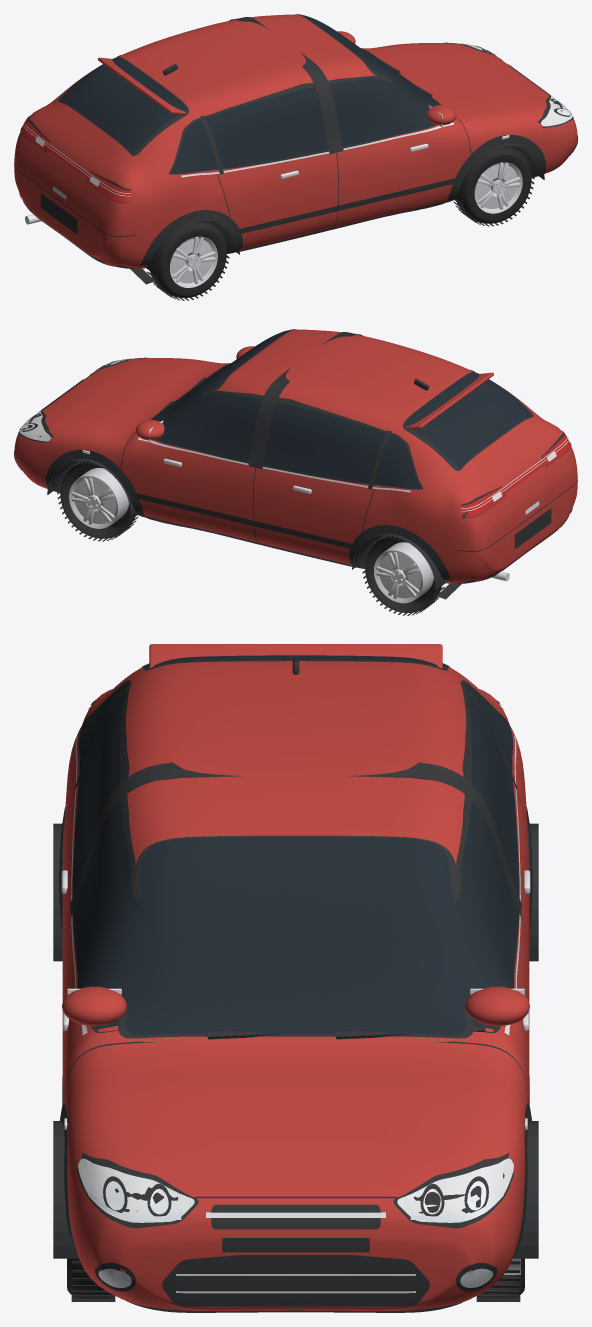
File: lutece_hi.glb
3 views of the same model, one above another, from view 1: azimuth 30°, elevation 25°; view 2: azimuth 150°, elevation 25°; view 3: azimuth 270°, elevation 25° (orthographic). The views are drawn at different scales.
Visible parts, largest first — view 1: Body, Glass-1, RearGlass, WheelFR, WheelRR, ArchTrim-1.001, Bpillar-1, WinFrame-1, ArchTrim-1, Windshield, Rub-1, TailLamp (+9 smaller); view 2: Body, Glass1, RearGlass, WheelFL, WheelRL, ArchTrim1.001, Bpillar1, WinFrame1, ArchTrim1, Windshield, Rub1, TailLamp (+9 smaller); view 3: Body, Windshield, Glass1, Glass-1, Intake, HeadReflector, Spoiler, GrilleUpper, HeadBezel, WsFrame, PlateF, Bpillar1 (+18 smaller).
Boxes of the visible parts, x1,y1,x2,y2 form: Body: (14,14,577,268); Glass-1: (171,78,435,173); RearGlass: (61,57,185,152); WheelFR: (453,146,534,226); WheelRR: (147,220,229,300); ArchTrim-1.001: (130,210,242,284); Bpillar-1: (300,52,343,154); WinFrame-1: (169,75,436,174); ArchTrim-1: (446,135,546,202); Windshield: (297,14,441,106); Rub-1: (239,178,455,233); TailLamp: (20,117,131,202); Body: (14,329,577,583); Glass1: (156,393,420,488); RearGlass: (406,372,530,467); WheelFL: (57,461,138,541); WheelRL: (362,535,444,615); ArchTrim1.001: (349,525,461,599); Bpillar1: (248,367,291,469); WinFrame1: (155,390,422,489); ArchTrim1: (45,450,145,517); Windshield: (150,329,293,421); Rub1: (136,493,352,548); TailLamp: (460,432,571,517); Body: (62,661,529,1310); Windshield: (126,837,465,1035); Glass1: (418,683,517,1028); Glass-1: (74,683,176,1028); Intake: (162,1255,429,1306); HeadReflector: (78,1158,513,1222); Spoiler: (149,644,442,668); GrilleUpper: (211,1204,380,1229); HeadBezel: (76,1153,514,1228); WsFrame: (118,835,473,1038); PlateF: (222,1238,369,1252); Bpillar1: (348,762,521,917).
Bounding box in the file's own units: 4.06 × 1.5 × 1.78.
